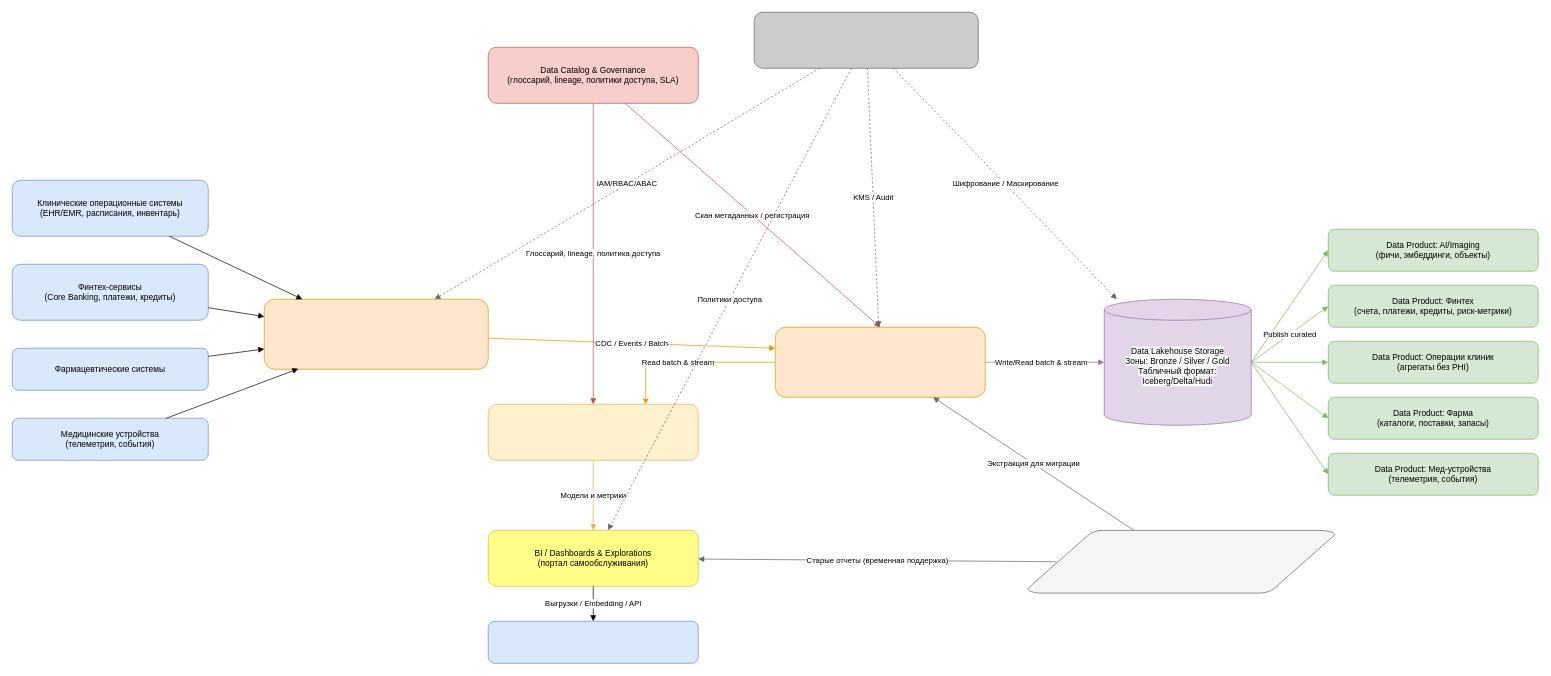
Image size: 1551x676. Some labels were removed from this diagram. Each missing label, with the box of its shape:
API & Integration Layer (REST/gRPC, Kafka, CDC, Anti-Corruption): (264, 299, 488, 369)
Legacy DWH (SQL Server 2008, отчеты на переходный период): (1027, 530, 1335, 593)
Security & Compliance (KMS, IAM/RBAC/ABAC, DLP, PHI/PII): (754, 12, 978, 68)
Внешние аналитические потребители (приложения, выгрузки): (488, 621, 698, 663)
Обработка и Оркестрация (Spark/Flink, Airflow, DQ/SLA): (775, 327, 985, 397)
Семантический слой (модели, метрики, датасеты): (488, 404, 698, 460)
